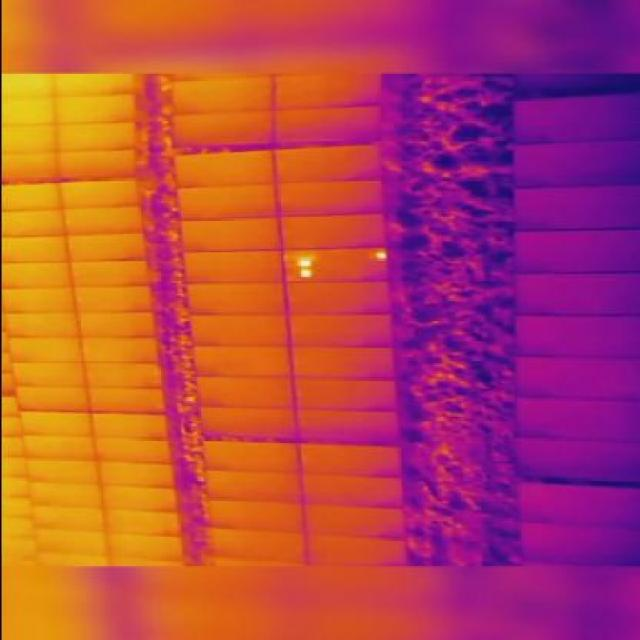hotspot: (294, 258, 309, 268), (298, 269, 311, 277), (373, 251, 384, 260)
